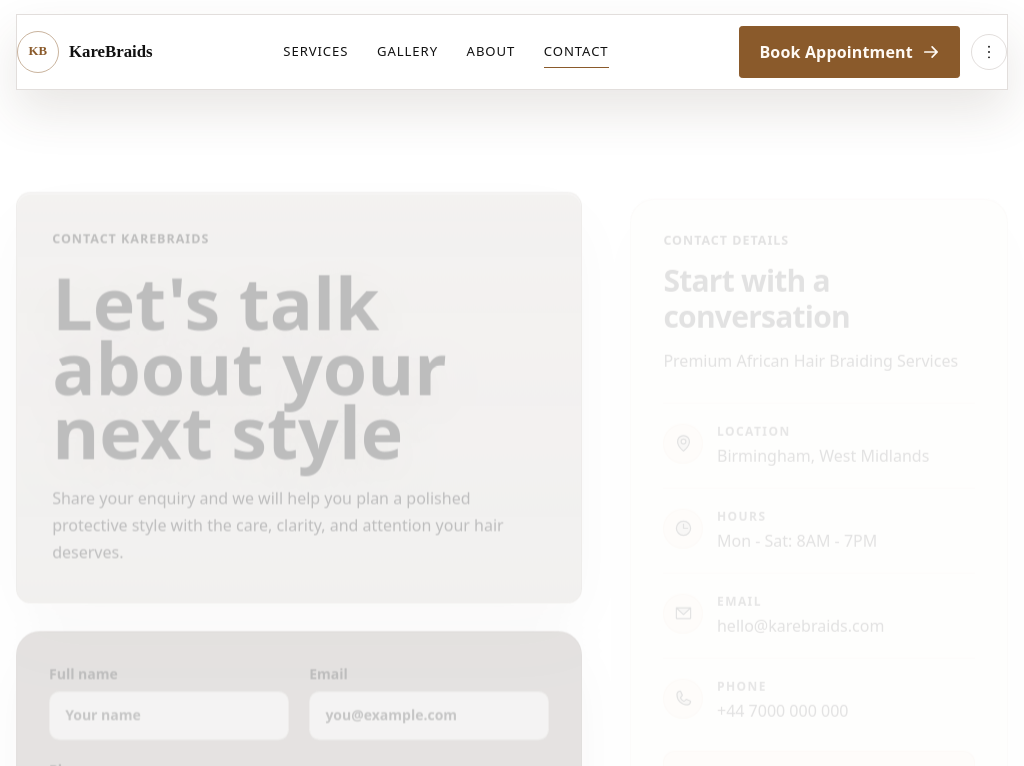
Test: contact page › shows a loading state while the message is being sent
Type "Amara Okafor" into the field labelled "Full name" at (169, 716), box [49,691,289,740]
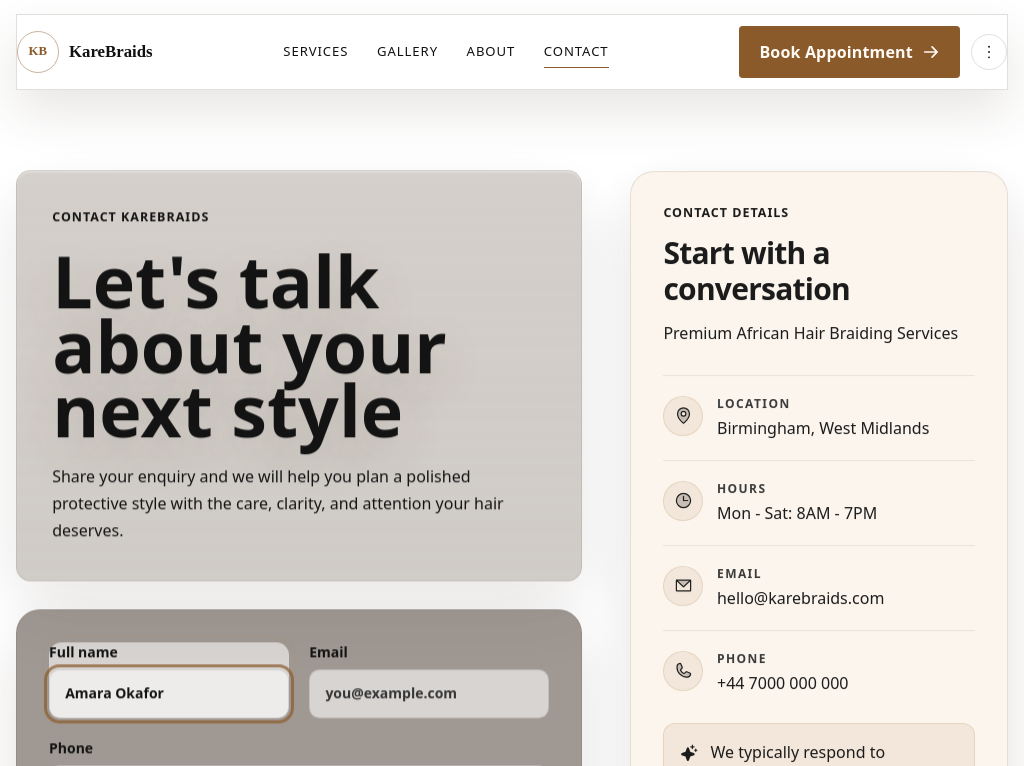
Type "amara@example.com" into the field labelled "Email" at (429, 694), box [309,669,549,718]
(page scrolled)
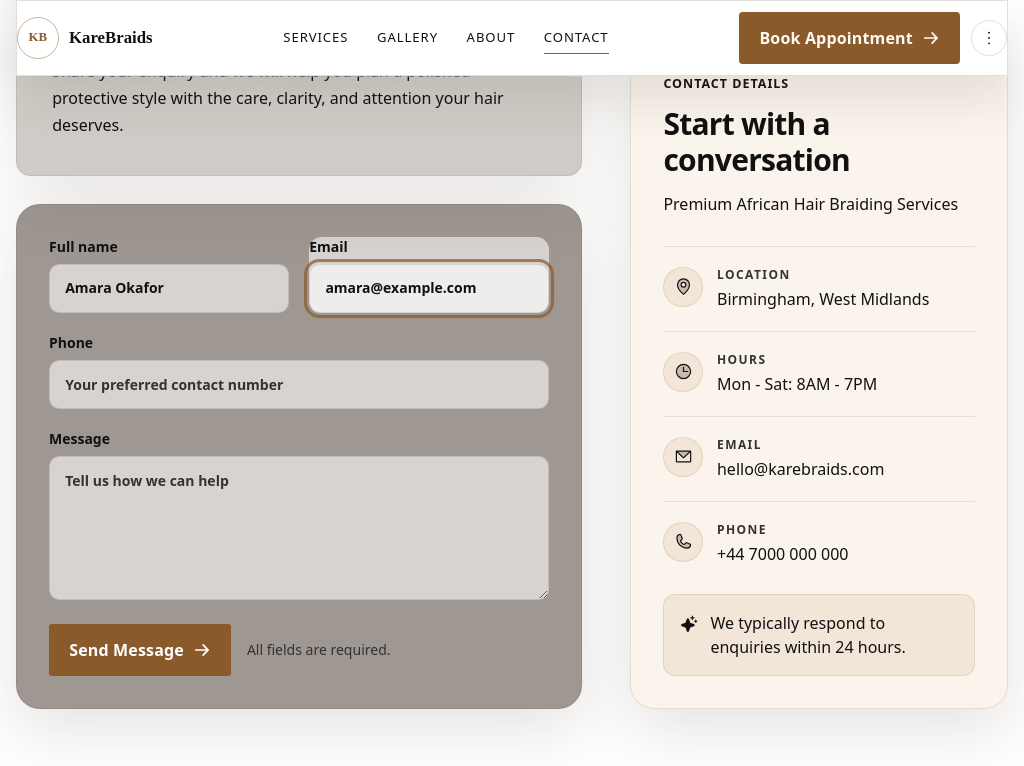
Type "+44 7000 000 000" into the field labelled "Phone" at (299, 385), box [49,360,549,409]
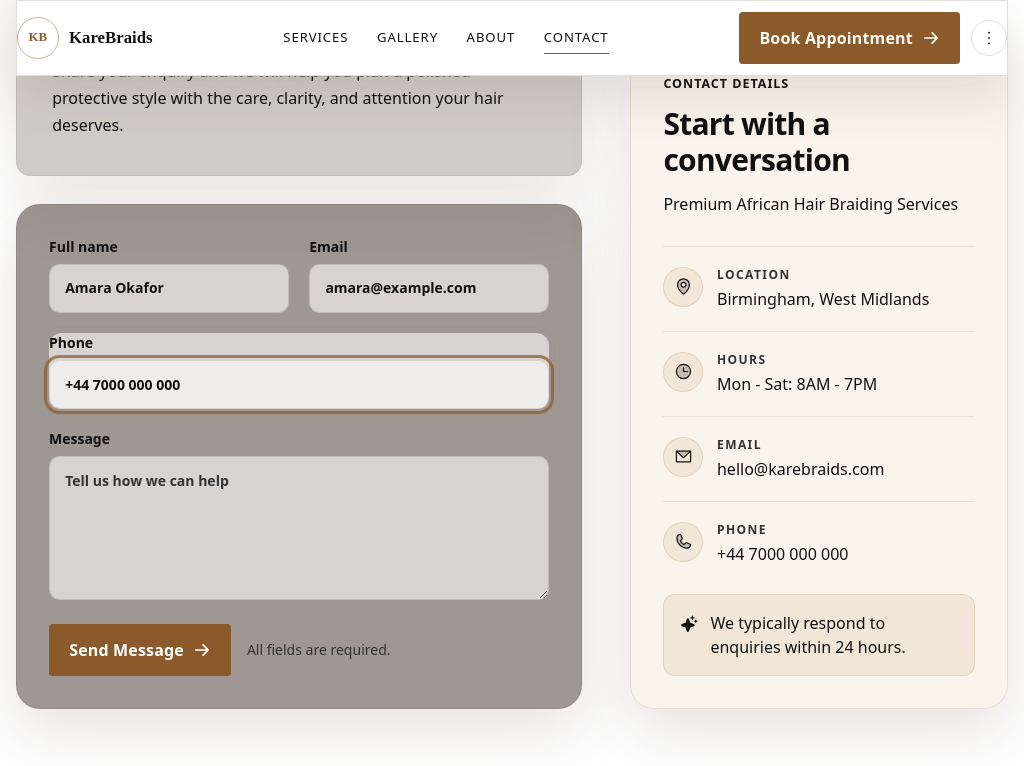
Type "I would like help choosing a style." into the text box labelled "Message" at (299, 528), box [49,456,549,600]
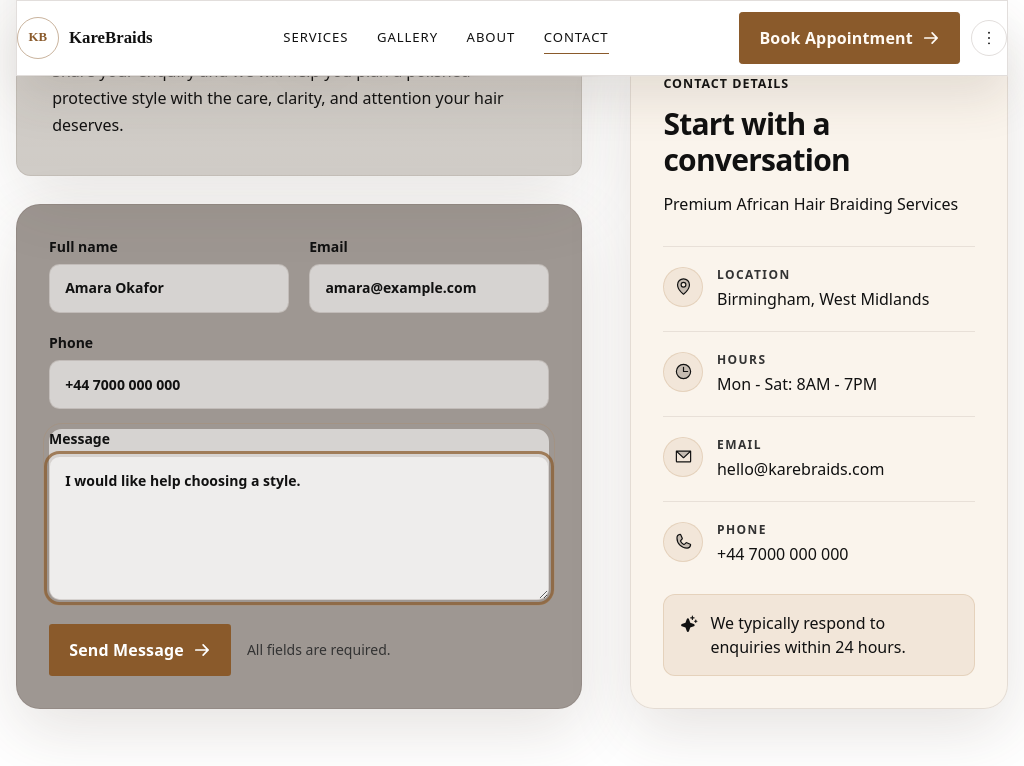
Click the button "Send Message" at (140, 650), box [49,624,231,676]
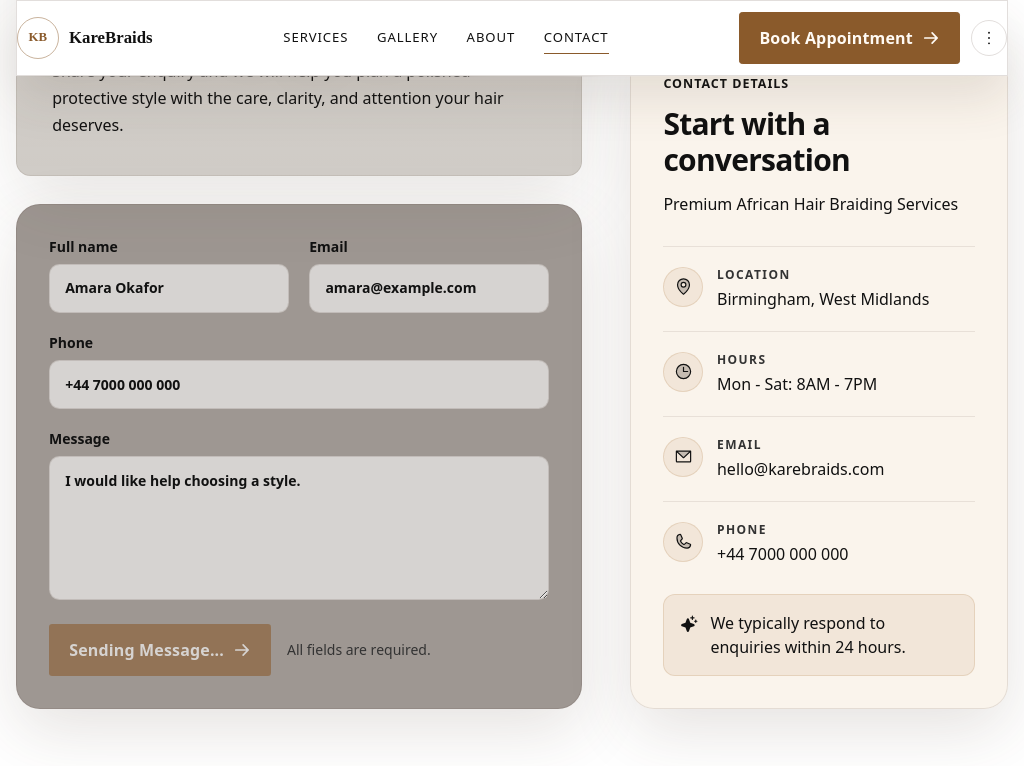
Result: the button "Sending Message..." is disabled at [49,624,271,676]
